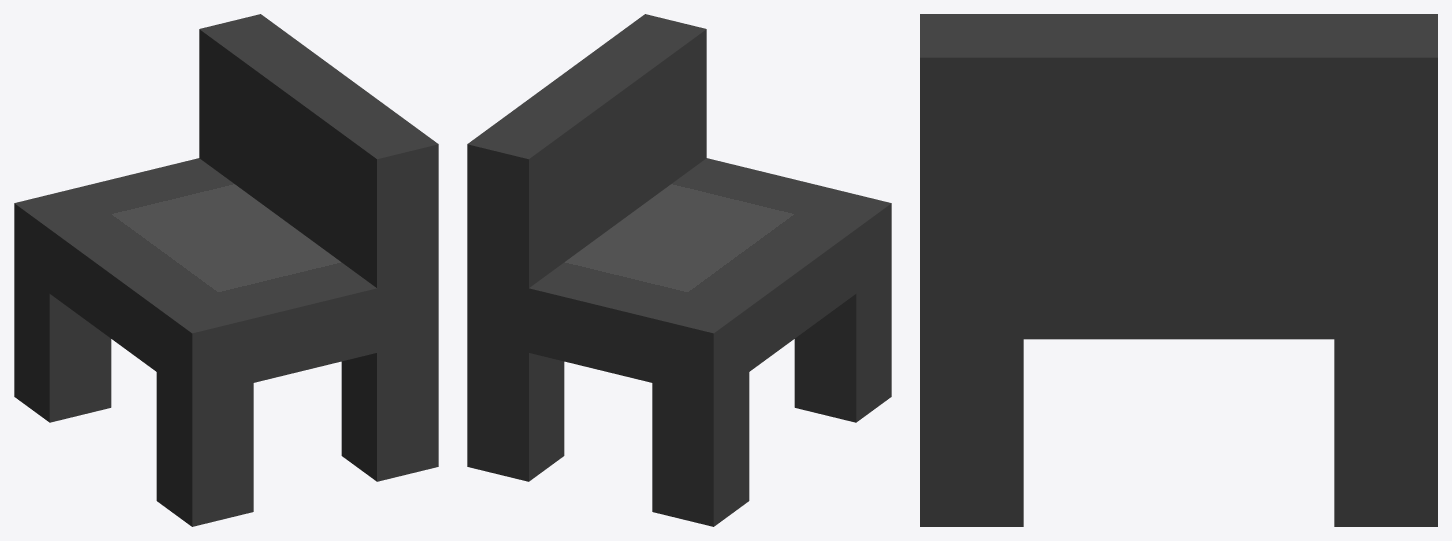
File: obj_chair1.fbx
The picture shows the model from 3 angles, left to right: view 1: azimuth 30°, elevation 25°; view 2: azimuth 150°, elevation 25°; view 3: azimuth 270°, elevation 25°; orthographic projection. The views are drawn at different scales.
Visible parts, largest first — view 1: obj_chair1; view 2: obj_chair1; view 3: obj_chair1.
Boxes of the visible parts, <box> form: obj_chair1: <box>14,14,438,526</box>; obj_chair1: <box>467,14,891,526</box>; obj_chair1: <box>920,14,1437,526</box>.
Bounding box in the file's own units: 0.4 × 0.5 × 0.5.
1 material, 1 textured.
